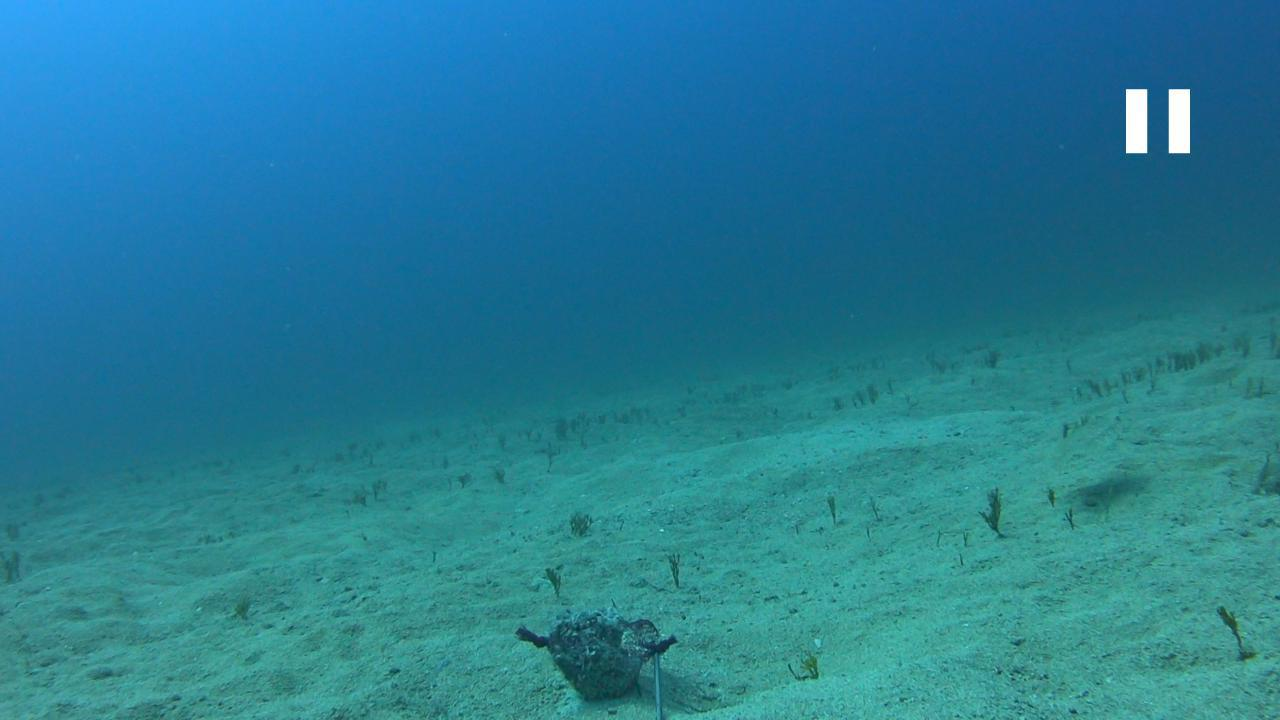bothus: (1026, 415, 1158, 510)
